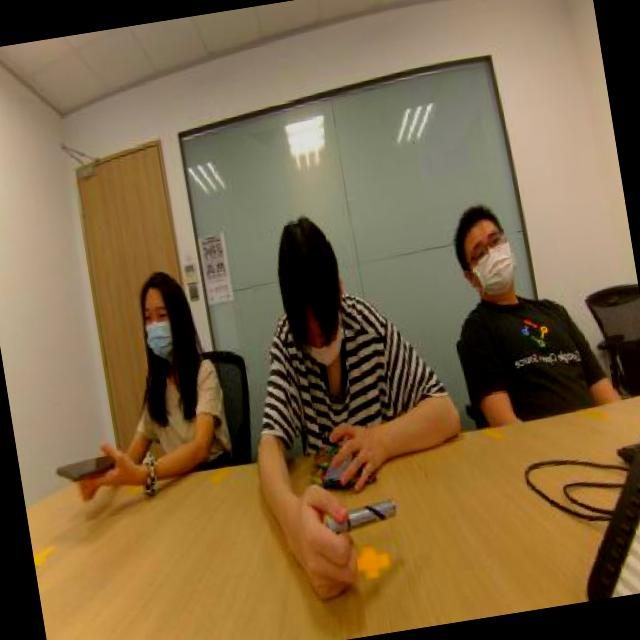Person: (416, 132, 635, 418), (237, 182, 420, 438), (83, 219, 244, 476)
